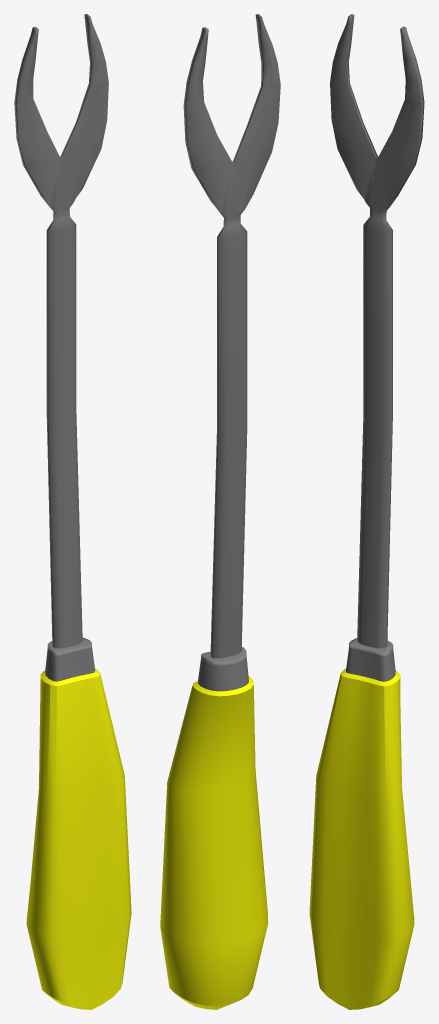
Rendered from fondue fork 3.fbx.
The picture shows the model from 3 angles, left to right: view 1: azimuth 30°, elevation 25°; view 2: azimuth 210°, elevation 25°; view 3: azimuth 330°, elevation 25°; orthographic projection. The views are drawn at different scales.
Visible parts, largest first — view 1: pCylinder3 (×2); view 2: pCylinder3 (×2); view 3: pCylinder3 (×2).
Boxes of the visible parts, x1,y1,x2,y2 form: pCylinder3 (×2): [14, 14, 131, 1009]; pCylinder3 (×2): [160, 14, 280, 1009]; pCylinder3 (×2): [309, 14, 424, 1009].
Size of the model in its own units: 0.9185 by 8.97 by 0.6029.
